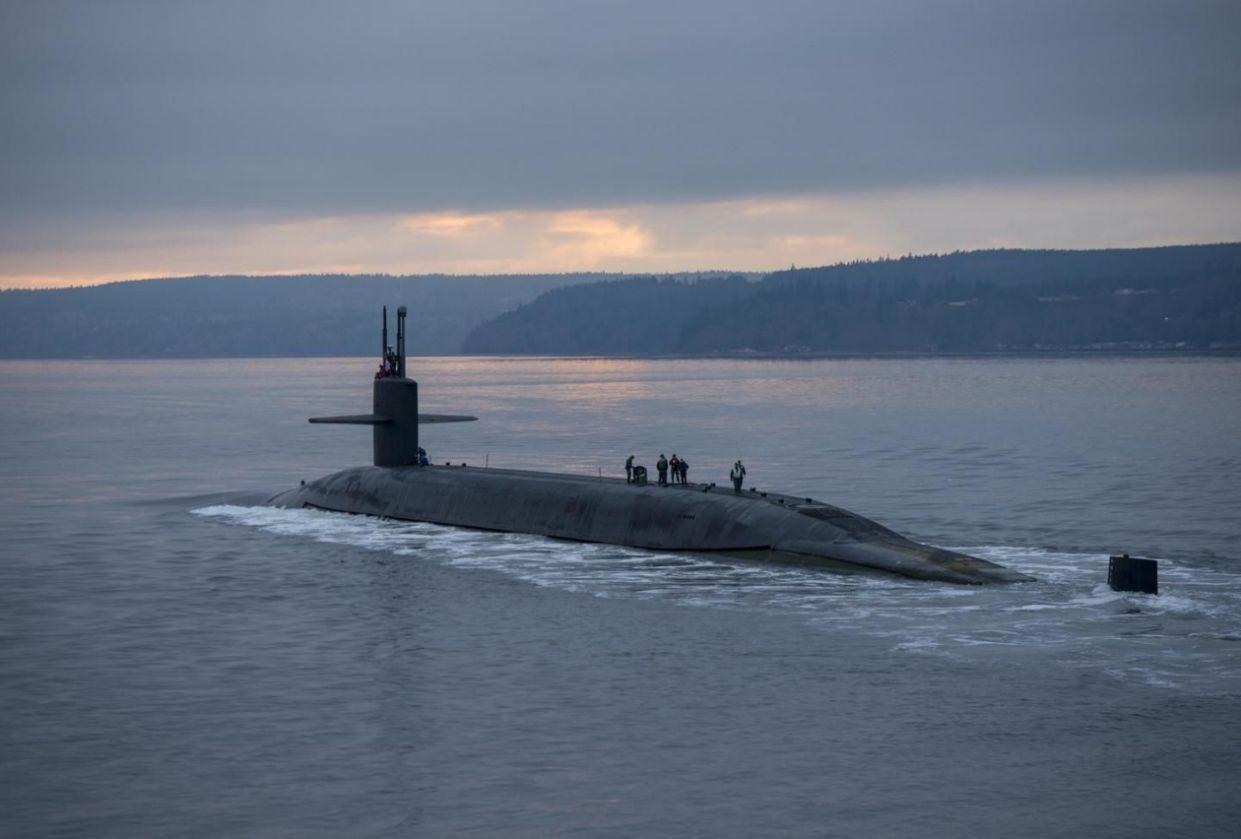Submarine: (212, 262, 1232, 696)
